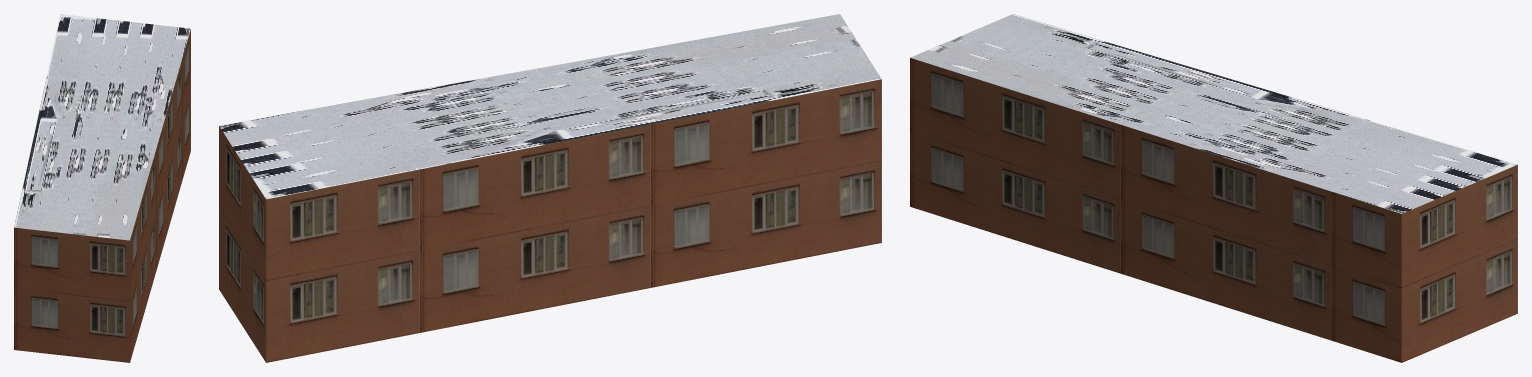
The model's file is ResTex__1828.fbx.
3 views of the same model, side by side, from view 1: azimuth 30°, elevation 25°; view 2: azimuth 150°, elevation 25°; view 3: azimuth 270°, elevation 25° (orthographic). The views are drawn at different scales.
Parts seen in each view (by area): view 1: CityEngineMaterial_m, CityEngineMaterial_20_m; view 2: CityEngineMaterial_20_m, CityEngineMaterial_m; view 3: CityEngineMaterial_20_m, CityEngineMaterial_m.
Part boxes in pixels (x1,y1,x2,y2): CityEngineMaterial_m: [14, 14, 190, 240]; CityEngineMaterial_20_m: [14, 29, 190, 362]; CityEngineMaterial_20_m: [219, 79, 881, 362]; CityEngineMaterial_m: [219, 14, 881, 199]; CityEngineMaterial_20_m: [910, 58, 1517, 362]; CityEngineMaterial_m: [910, 14, 1517, 213].
Size of the model in its own units: 17.26 by 6 by 22.18.
Materials: 2 (2 with a texture image).
